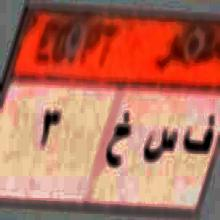3: (39, 99, 64, 159)
faa: (185, 110, 217, 159)
khaa: (106, 112, 134, 175)
seen: (144, 119, 179, 169)
